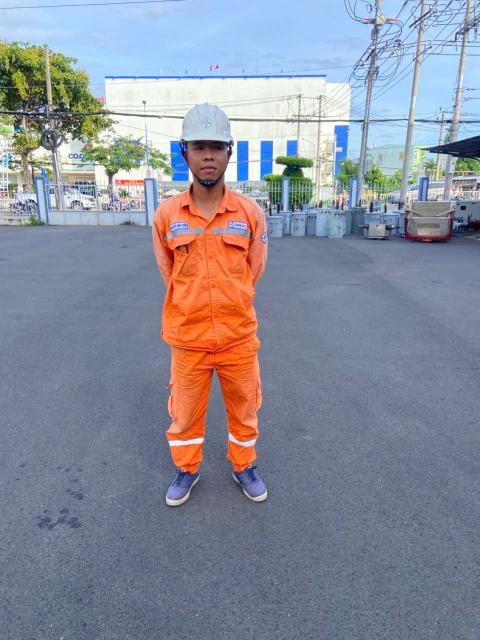helmet: (170, 80, 243, 159)
shoes: (146, 446, 209, 513), (210, 454, 276, 506)
